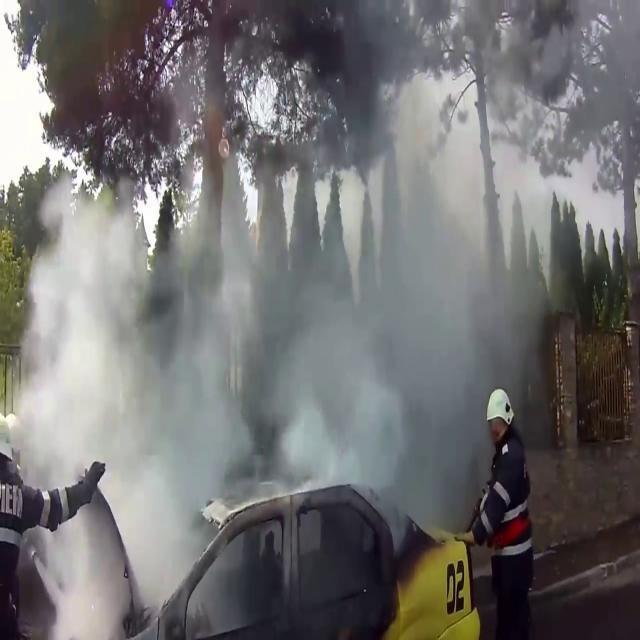Smoke: (7, 7, 553, 540)
